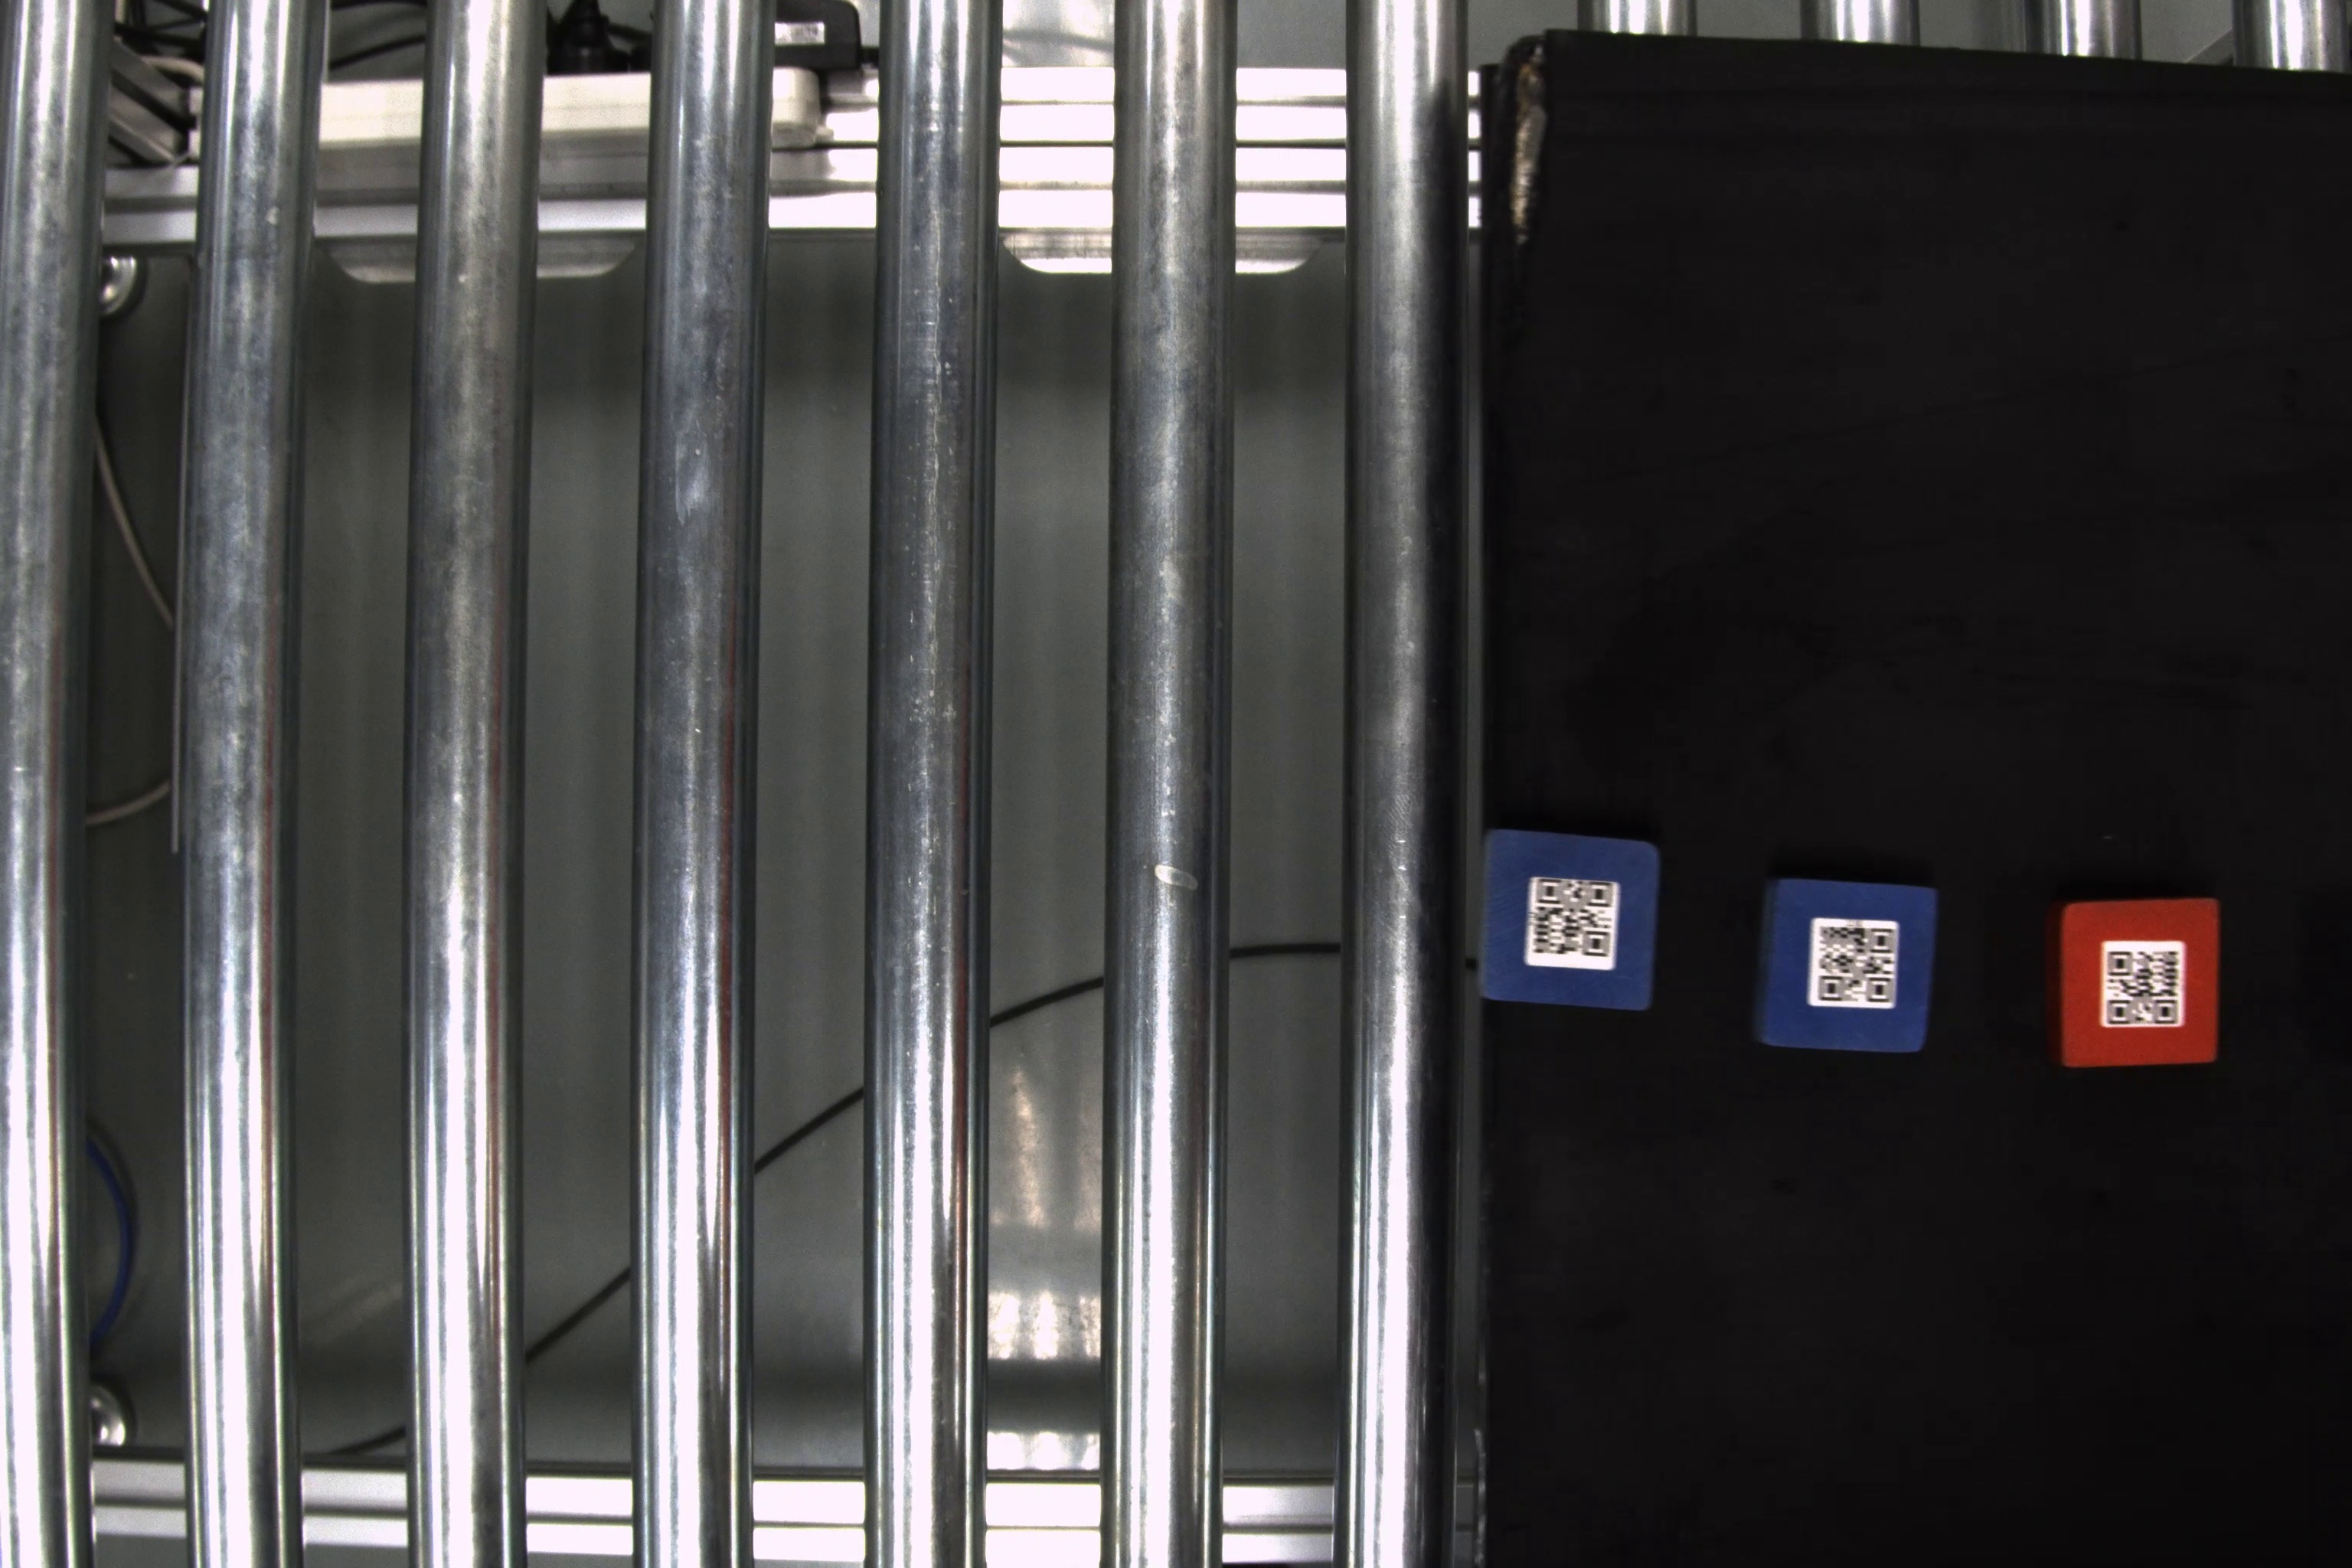wood: (1480, 826, 1662, 1011), (1759, 873, 1937, 1057), (2046, 894, 2224, 1071)
